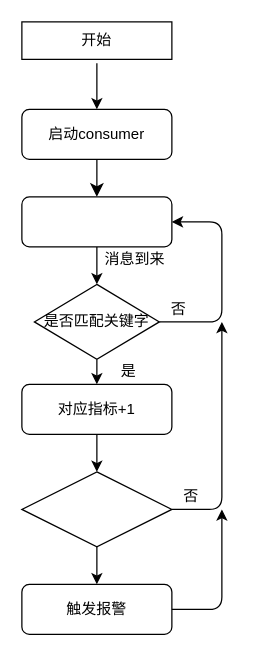
This 254x656 diagram has some shape labels left out. The shapes that lost their labels are listed below. From the top down, each one's centre as x and y in pixels, then its label:
At (96,221): "监听指定topic".
At (96,509): "是否达到阈值".
